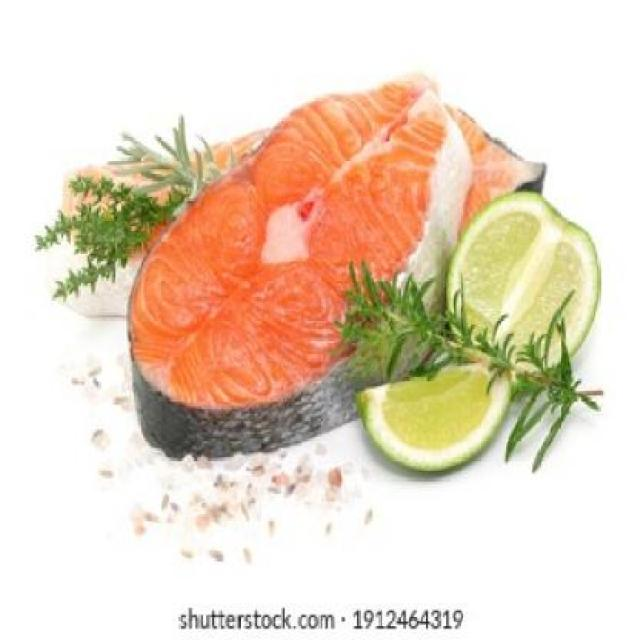salmon: (117, 74, 493, 455)
